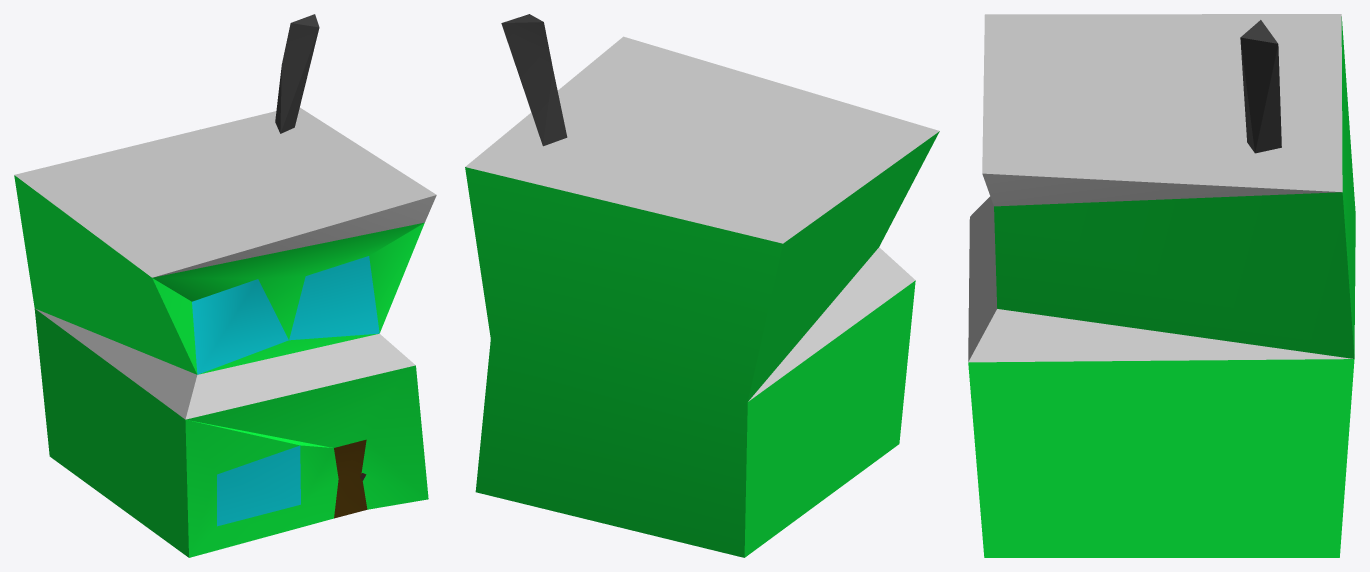
Rendered from PredioPequeno-VerdeClaroLOD2.fbx.
3 renders of one model, left to right at view 1: azimuth 30°, elevation 25°; view 2: azimuth 150°, elevation 25°; view 3: azimuth 270°, elevation 25°, orthographic. The views are drawn at different scales.
Visible parts, largest first — view 1: Predio2AndaresLOD2; view 2: Predio2AndaresLOD2; view 3: Predio2AndaresLOD2.
Boxes of the visible parts, left/top/right/bottom form: Predio2AndaresLOD2: left=14, top=14, right=436, bottom=557; Predio2AndaresLOD2: left=465, top=14, right=939, bottom=557; Predio2AndaresLOD2: left=968, top=14, right=1355, bottom=557.
Bounding box in the file's own units: 718 × 975 × 660.
